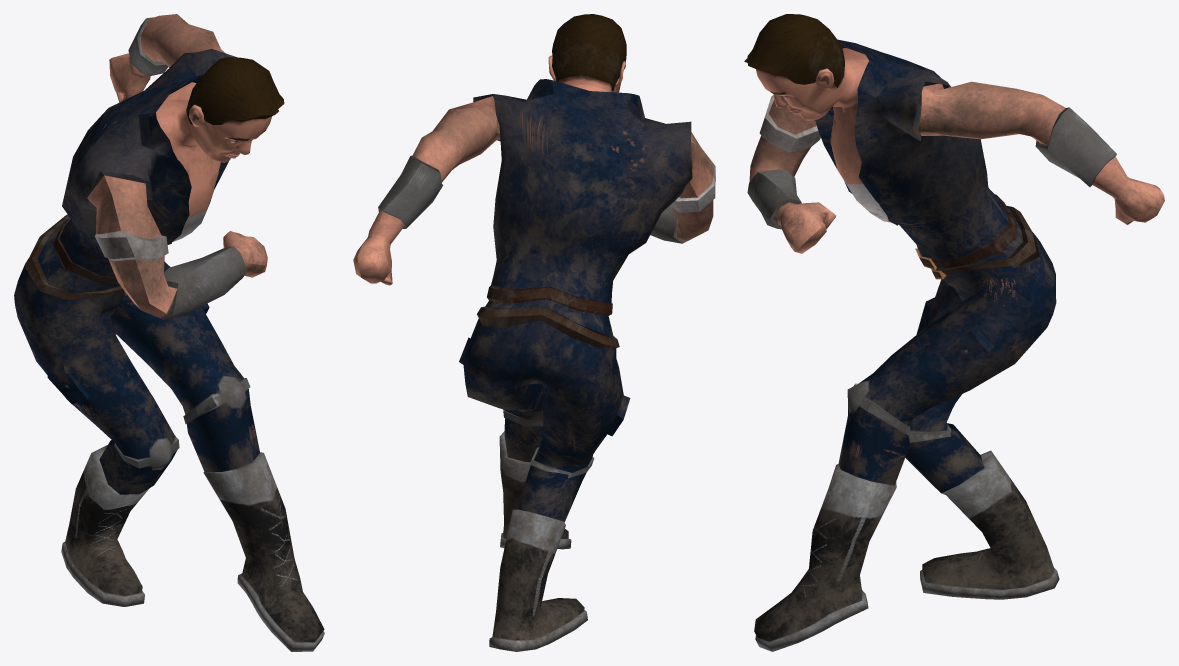
The model's file is Anim_dash_jugador.0022.obj.
The picture shows the model from 3 angles, left to right: view 1: azimuth 30°, elevation 25°; view 2: azimuth 150°, elevation 25°; view 3: azimuth 270°, elevation 25°; orthographic projection. The views are drawn at different scales.
Parts seen in each view (by area): view 1: polySurface1; view 2: polySurface1; view 3: polySurface1.
Part boxes in pixels (bbox=[...]): polySurface1: bbox=[14, 14, 324, 651]; polySurface1: bbox=[353, 14, 715, 651]; polySurface1: bbox=[744, 14, 1164, 651].
Bounding box in the file's own units: 3.04 × 8.06 × 5.11.
